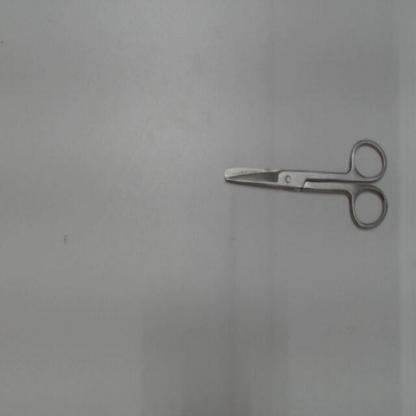Dressing Scissors: (211, 129, 395, 235)
